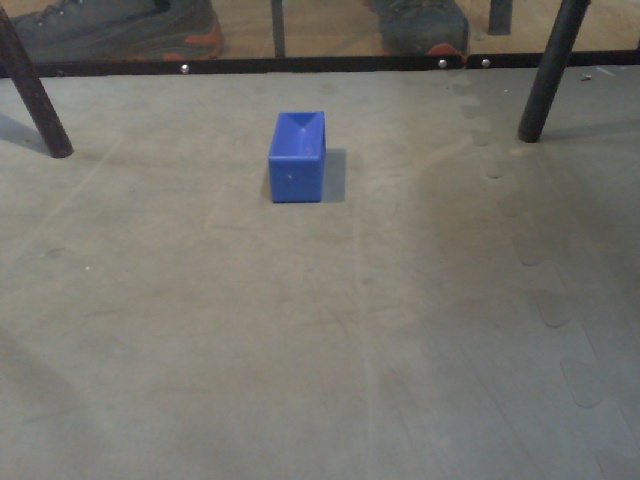BlueSample: (266, 107, 327, 206)
